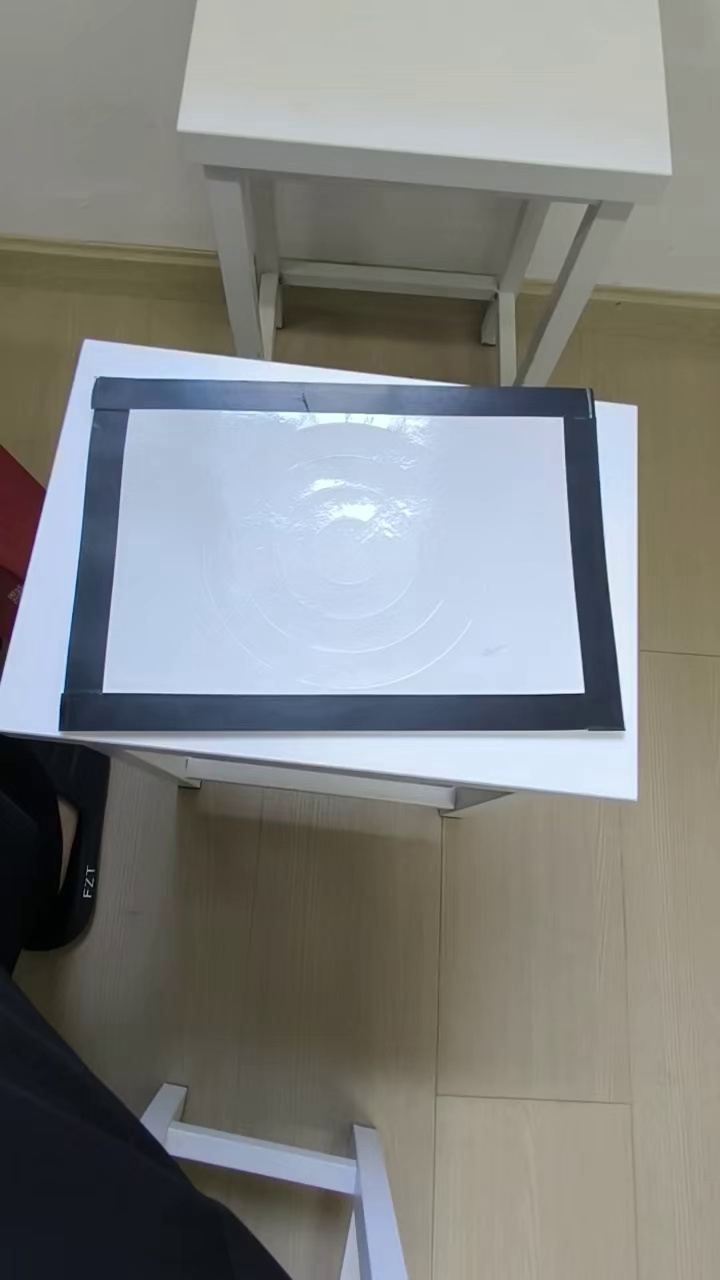board: (62, 376, 621, 728)
